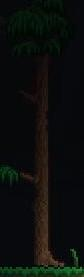tree: (1, 1, 84, 277)
